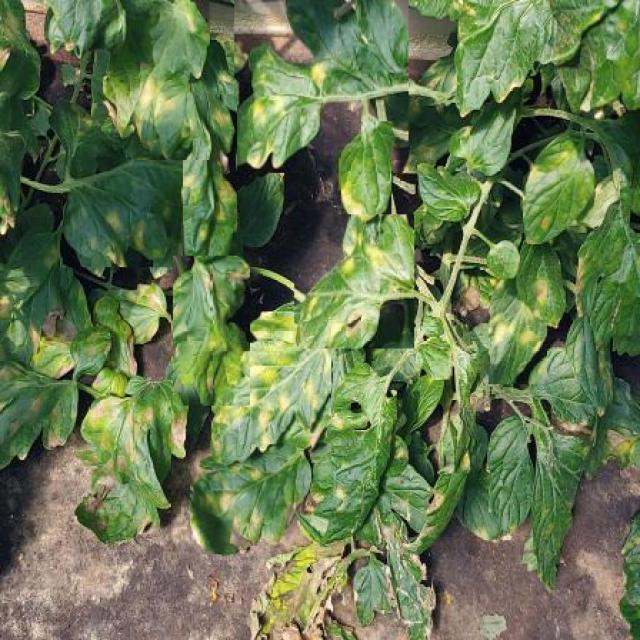Leaf Mold: (235, 0, 408, 173), (212, 312, 332, 464), (295, 214, 415, 349), (189, 444, 311, 554), (63, 157, 183, 267), (133, 0, 210, 160), (173, 255, 250, 406), (171, 95, 238, 266), (522, 132, 594, 245), (489, 279, 547, 384), (337, 122, 392, 222)
